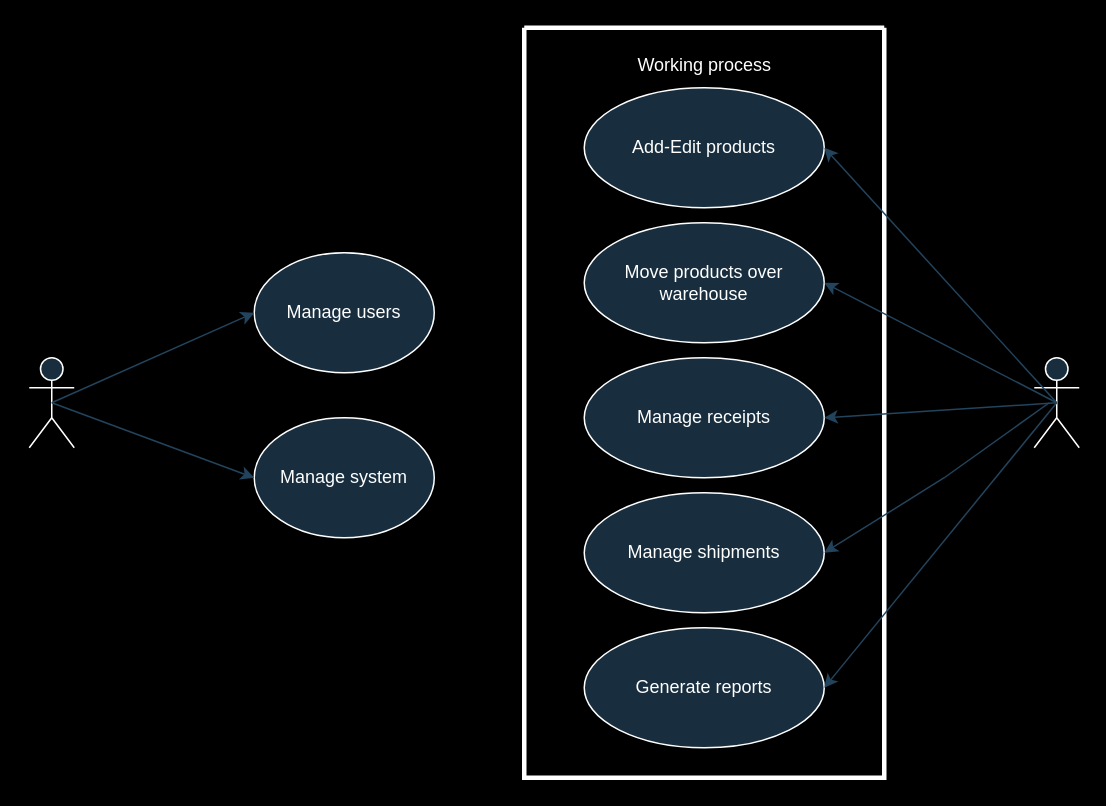
Some shapes in this 1106 by 806 pixel diagram are drawn without their labels. Here are the shapes that lost their labels. From the top down, the centre of each, then its label:
At [51,402]: "Admin".
At [1056,402]: "User".
